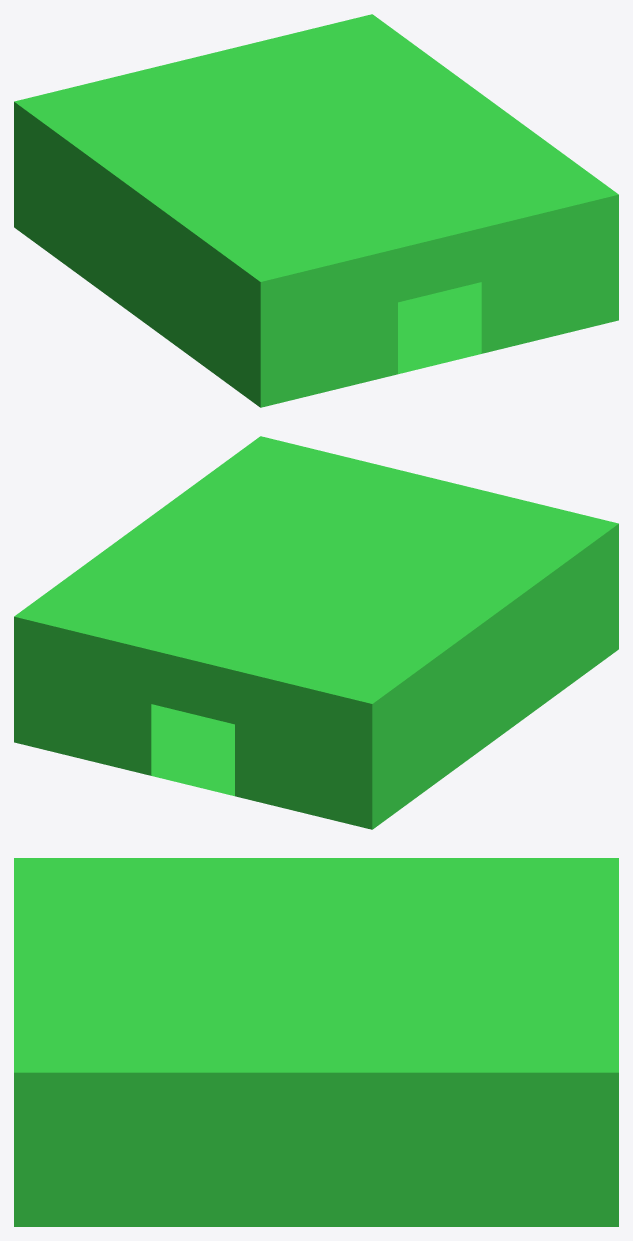
File: Room.glb
3 renders of one model, top to bottom at view 1: azimuth 30°, elevation 25°; view 2: azimuth 150°, elevation 25°; view 3: azimuth 270°, elevation 25°, orthographic. The views are drawn at different scales.
Parts seen in each view (by area): view 1: Cube.001; view 2: Cube.001; view 3: Cube.001.
Part boxes in pixels (box(x1,y1,x2,y2)): Cube.001: box(14, 14, 618, 407); Cube.001: box(14, 436, 618, 829); Cube.001: box(14, 858, 618, 1226).
Bounding box in the file's own units: 20.87 × 7 × 24.87.
